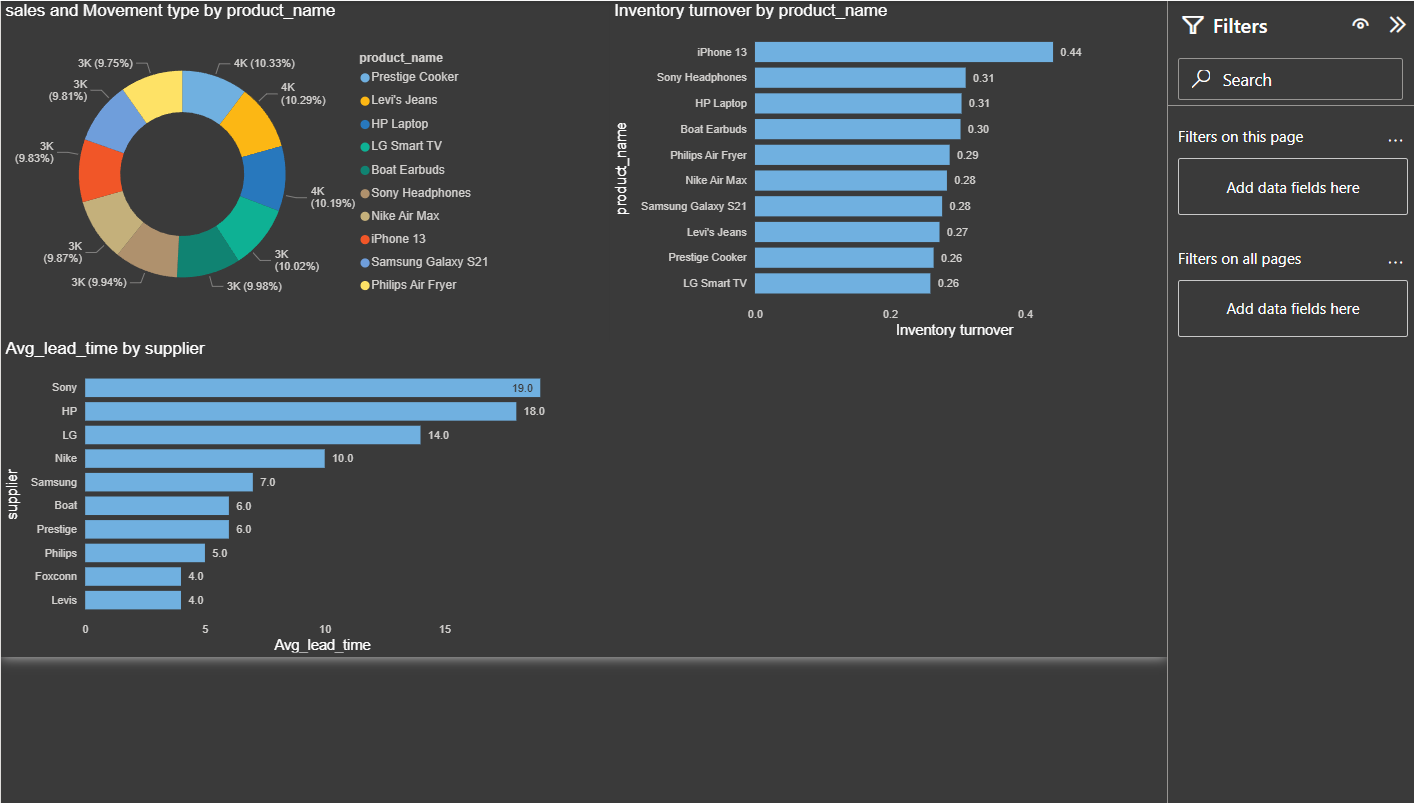

The dashboard page shown, as its layout file describes it:
{"tool":"powerbi","page":{"name":"Page 2","canvas":[1280,720],"ordinal":1},"visuals":[{"type":"donutChart","fields":{"Category":["inventory_master.product_name"],"Y":["Table.sales"]},"box":[0,0,550.3,359.5],"z":0},{"type":"barChart","fields":{"Category":["inventory_master.product_name"],"Y":["Table.Inventory turnover"]},"box":[668.3,0,612,374.6],"z":1},{"type":"barChart","fields":{"Category":["supplier_data.supplier"],"Y":["Table.Avg_lead_time"]},"box":[0,370.5,625.7,349.9],"z":2}]}

Visuals, with their boxes on the page's 1280x720 design canvas (x1, y1, x2, y2). These are canvas units, not pixel positions in the 1414x803 screenshot, which may show the page scaled, cropped or inside an application window:
donutChart - inventory_master.product_name x Table.sales: (0,0,550,360)
barChart - inventory_master.product_name x Table.Inventory turnover: (668,0,1280,375)
barChart - supplier_data.supplier x Table.Avg_lead_time: (0,370,626,720)
